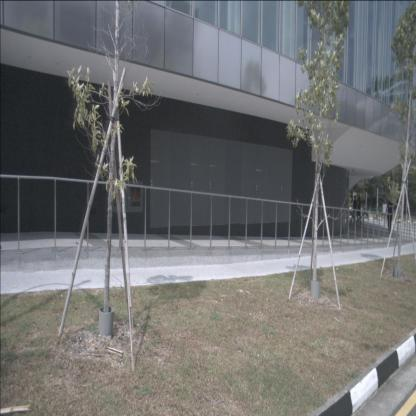human-pedestrian-adult: (385, 195, 394, 234), (356, 195, 361, 224), (353, 196, 357, 223)
vehicle-bicycle: (349, 206, 364, 228)
vehicle-car: (349, 205, 369, 218)
